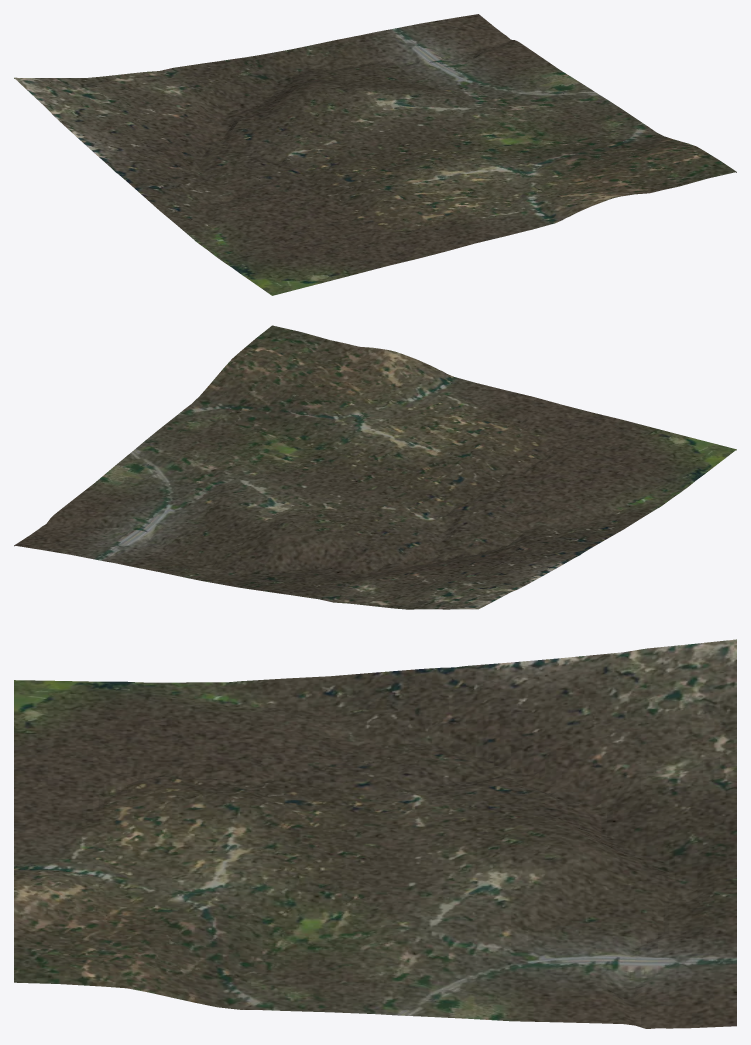
The picture shows the model from 3 angles, top to bottom: view 1: azimuth 30°, elevation 25°; view 2: azimuth 150°, elevation 25°; view 3: azimuth 270°, elevation 25°; orthographic projection. The views are drawn at different scales.
Bounding box in the file's own units: 500 × 54.17 × 481.
Materials: 1 (1 with a texture image).
